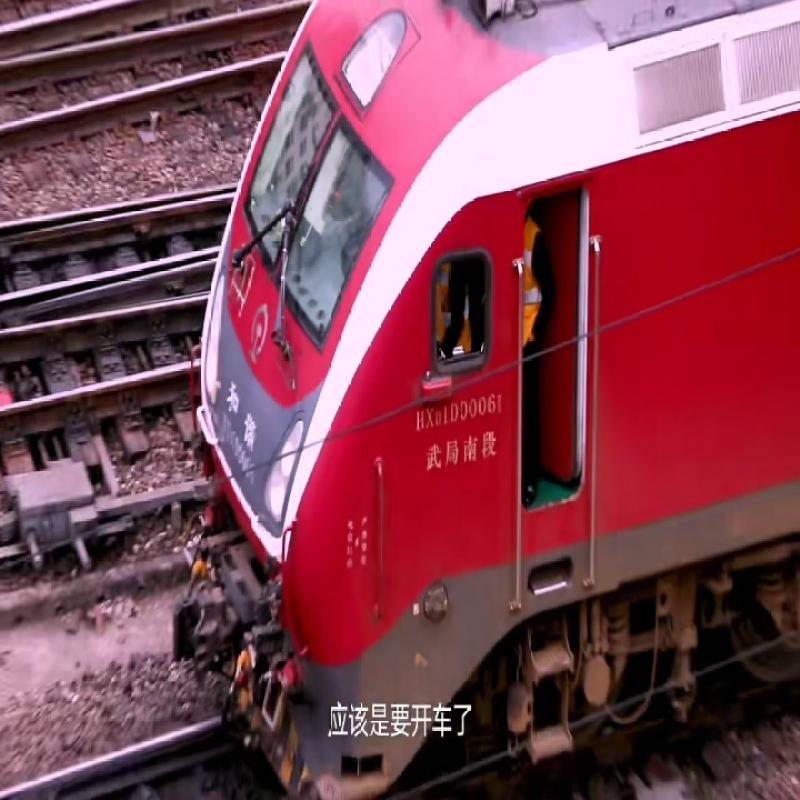train: (203, 11, 800, 672)
